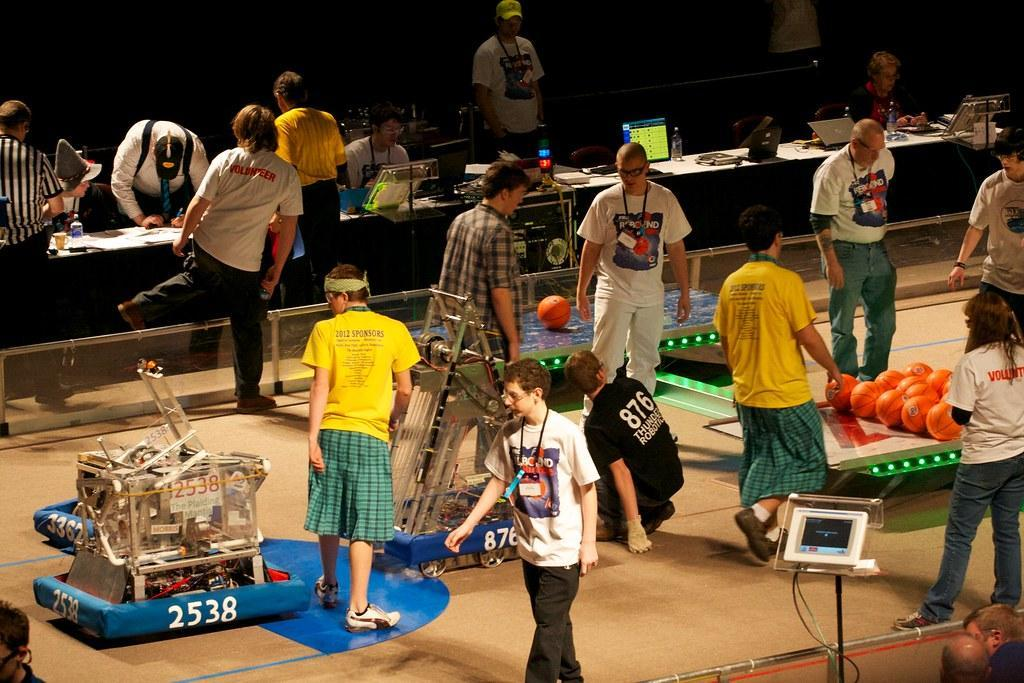robot: (35, 351, 313, 650), (366, 273, 593, 587), (33, 353, 216, 559)
